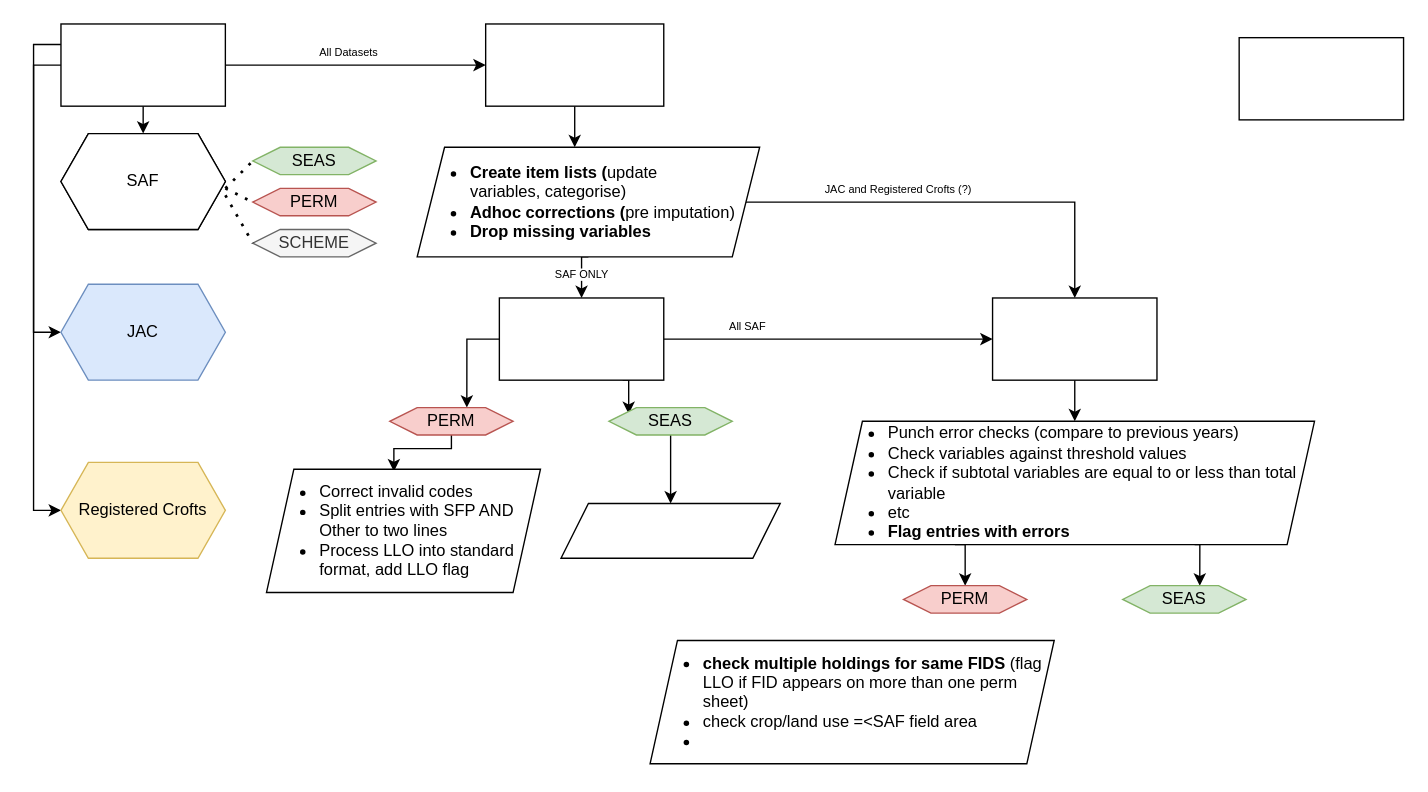
Some shapes in this 1428 by 792 pixel diagram are drawn without their labels. Each missing label, with the centre of its shape:
Combine: [1321,78]
Import Data: [142,64]
Process SFP only, ignore Other: [670,530]
SAF Clean: [581,338]
Tidy: [574,64]
Validations: [1074,338]
